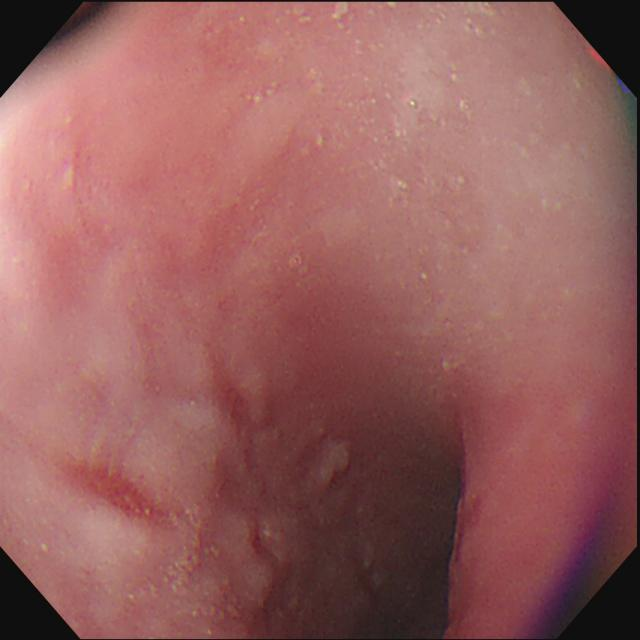C: (59, 455, 168, 528)
E: (356, 418, 487, 640)
J: (8, 286, 328, 632)
